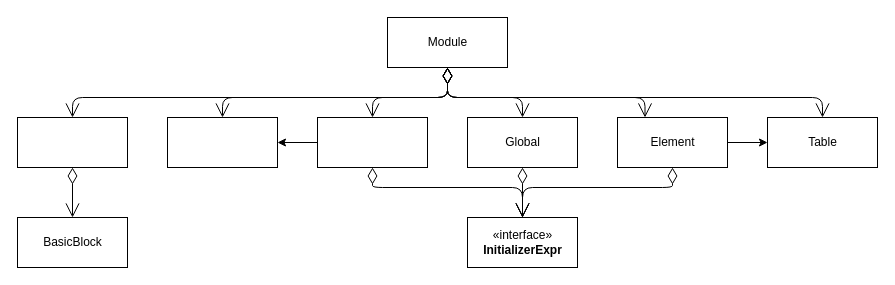
Image size: 895x285. Some labels were removed from this diagram. The centre of each missing label's shape, as x and y in pixels:
Data: the point at 222,142
Function: the point at 72,142
Memory: the point at 372,142
